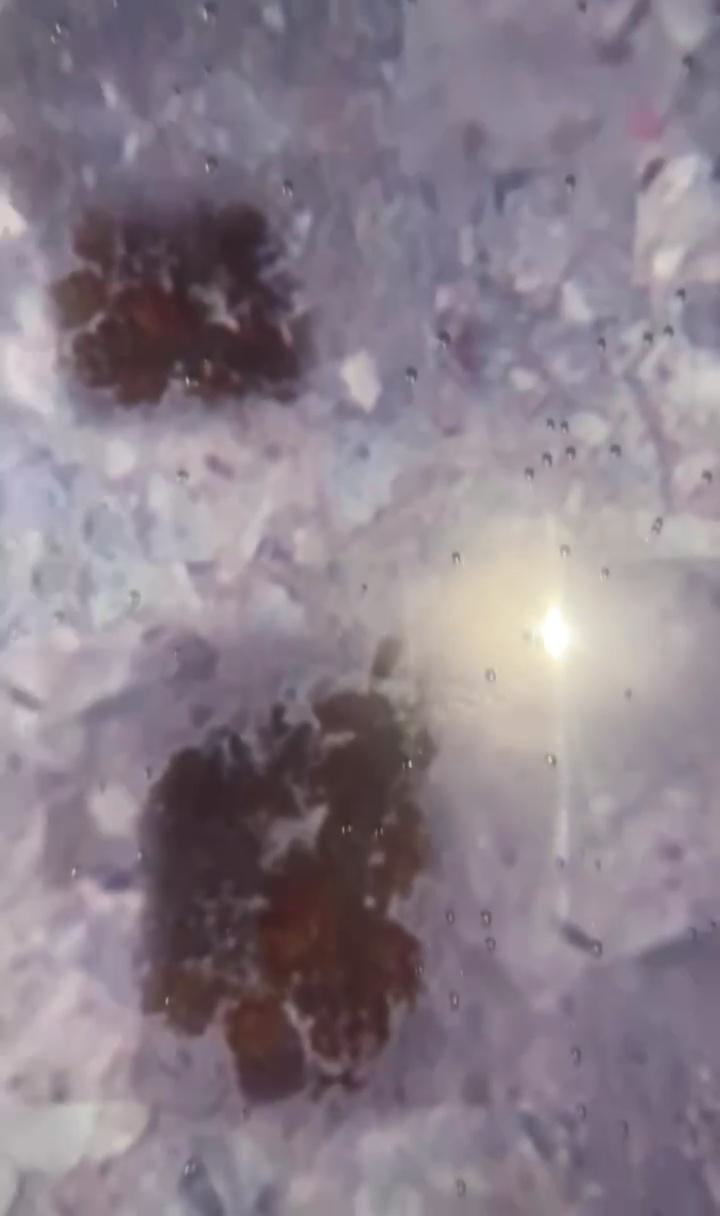Corrosion: (134, 632, 449, 1106), (46, 201, 313, 408)
